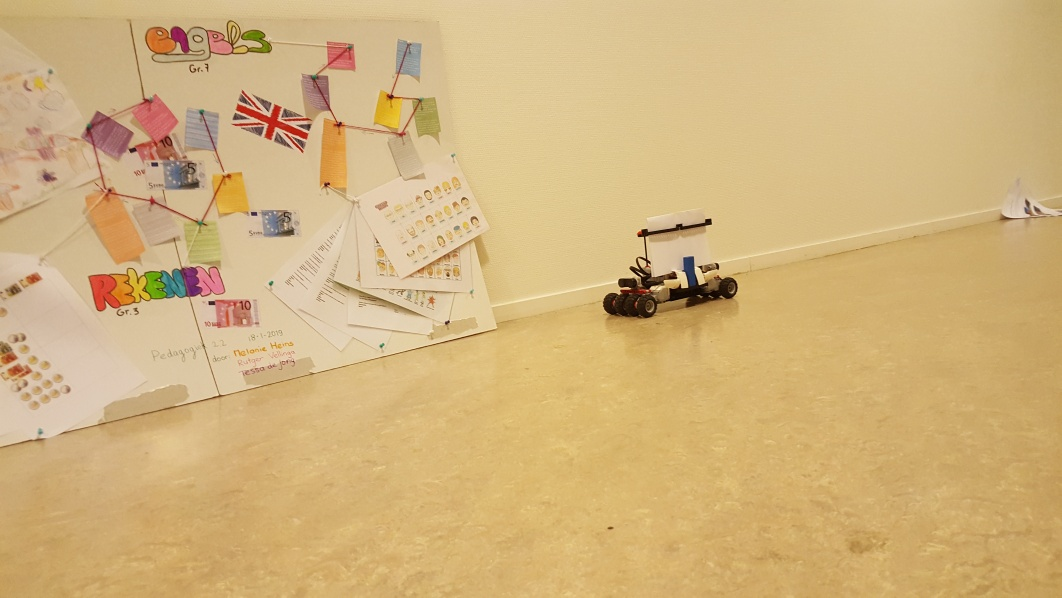car: (600, 206, 738, 318)
